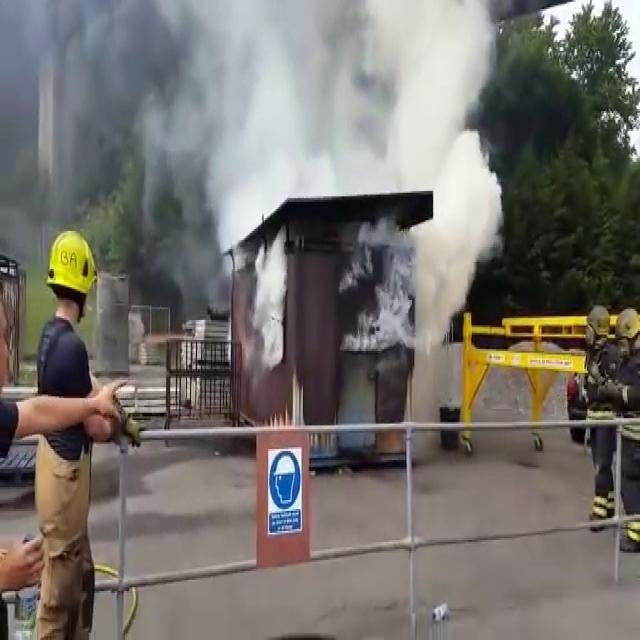Smoke: (200, 0, 526, 362)
